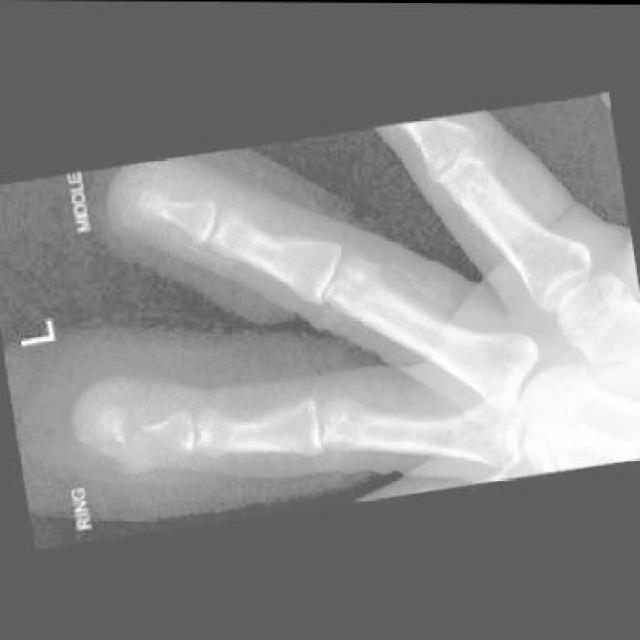Fracture: (89, 400, 182, 472)
